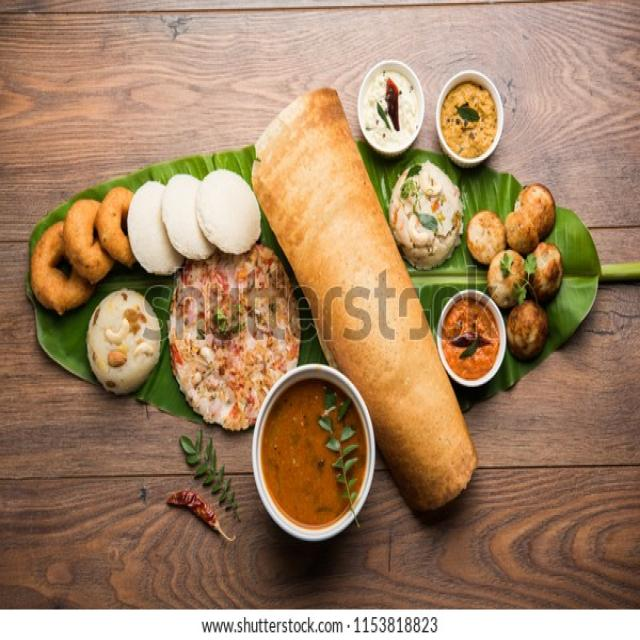DOSA: (252, 88, 476, 510)
IDLI: (196, 169, 260, 253), (128, 181, 182, 274), (162, 174, 213, 258)
MEDU VADA: (30, 221, 98, 314), (63, 200, 113, 283), (95, 186, 134, 267)
UPMA: (390, 163, 462, 268), (89, 291, 158, 389)
